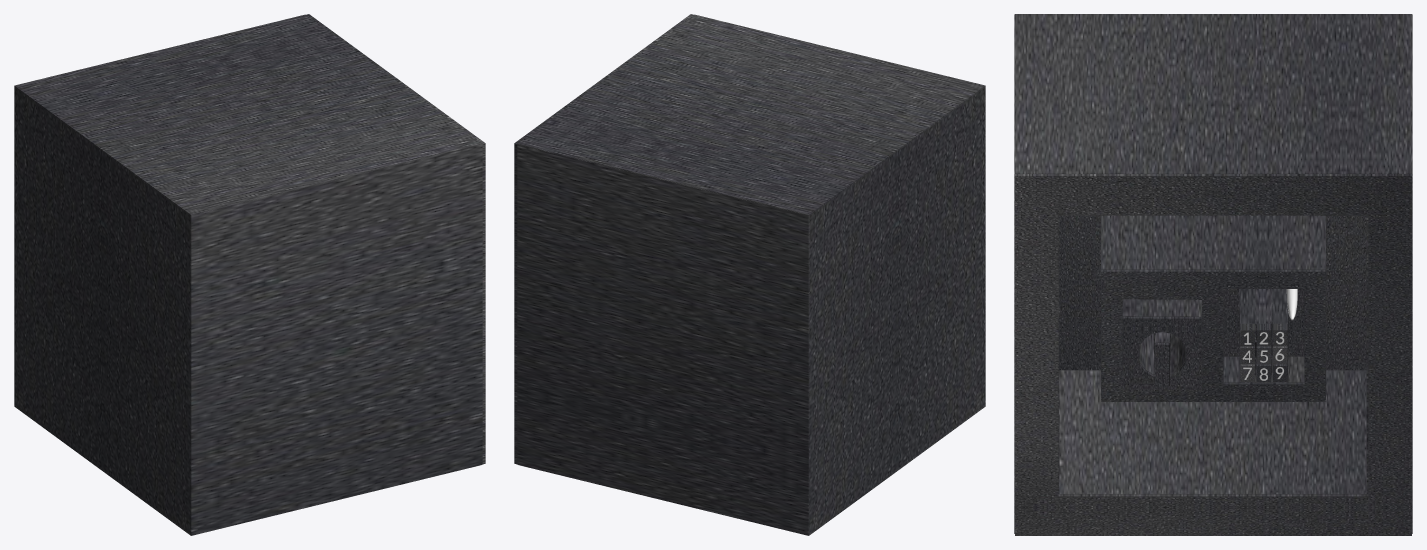
The model's file is safe_door.glb.
3 views of the same model, side by side, from view 1: azimuth 30°, elevation 25°; view 2: azimuth 150°, elevation 25°; view 3: azimuth 270°, elevation 25° (orthographic). The views are drawn at different scales.
Parts seen in each view (by area): view 1: Cube.202; view 2: Cube.202; view 3: Cube.202.
Boxes of the visible parts, x1,y1,x2,y2 form: Cube.202: (14, 14, 485, 535); Cube.202: (514, 14, 985, 535); Cube.202: (1014, 14, 1412, 535).
Size of the model in its own units: 2.05 by 2 by 2.
2 materials, 1 textured.
